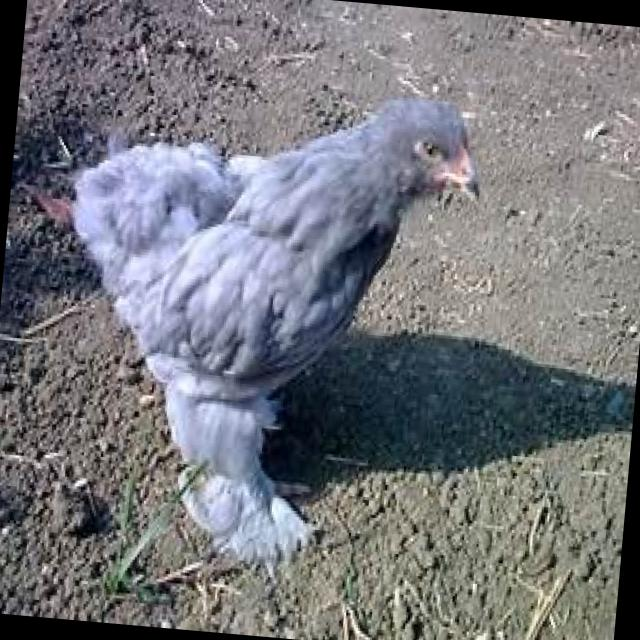animal: (38, 63, 489, 592)
